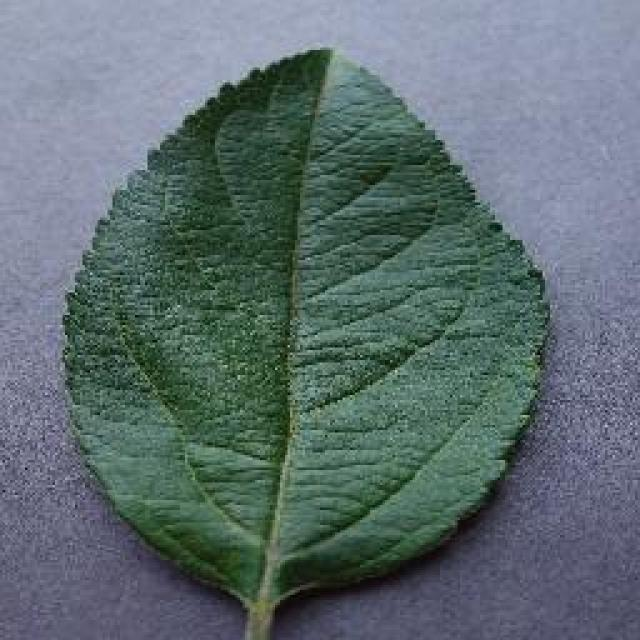apple healthy: (58, 42, 552, 638)
